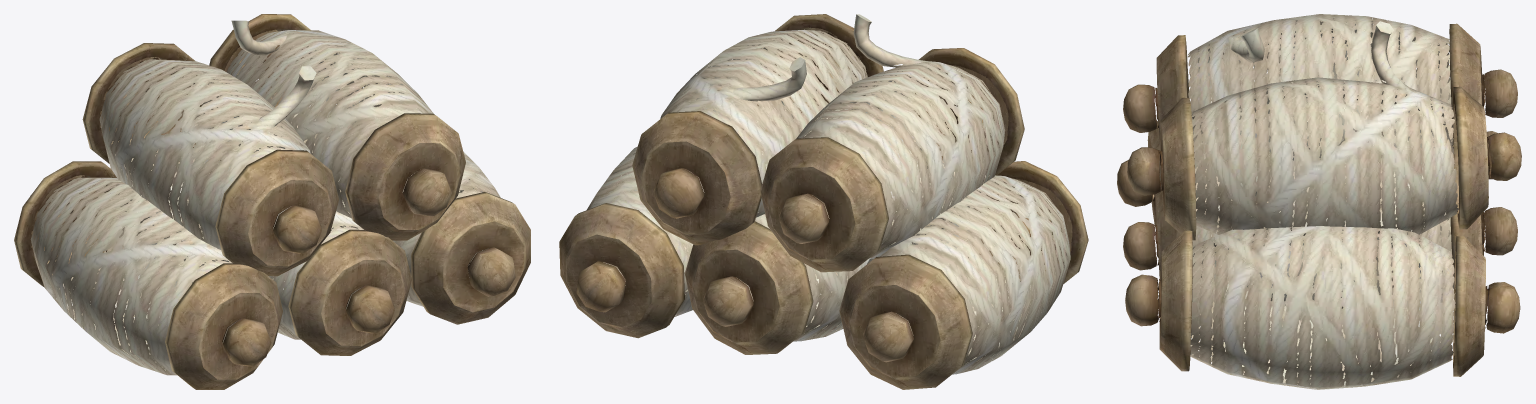
3 renders of one model, left to right at view 1: azimuth 30°, elevation 25°; view 2: azimuth 150°, elevation 25°; view 3: azimuth 270°, elevation 25°, orthographic. The views are drawn at different scales.
Visible parts, largest first — view 1: SM_Thread_Coarse_Pile_LOD0; view 2: SM_Thread_Coarse_Pile_LOD0; view 3: SM_Thread_Coarse_Pile_LOD0.
Part boxes in pixels (x1,y1,x2,y2): SM_Thread_Coarse_Pile_LOD0: (14, 14, 530, 389); SM_Thread_Coarse_Pile_LOD0: (559, 14, 1088, 389); SM_Thread_Coarse_Pile_LOD0: (1117, 14, 1521, 389).
Size of the model in its own units: 0.5144 by 0.3391 by 0.4306.
Materials: 1 (1 with a texture image).
